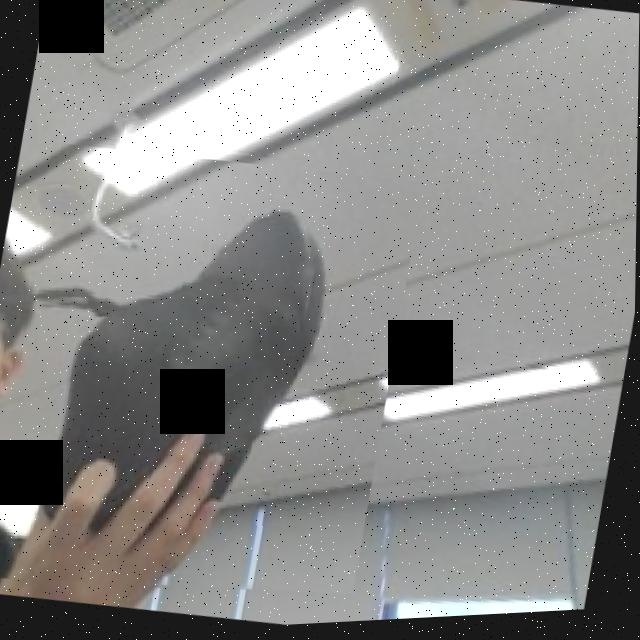shoe: (0, 129, 424, 635)
